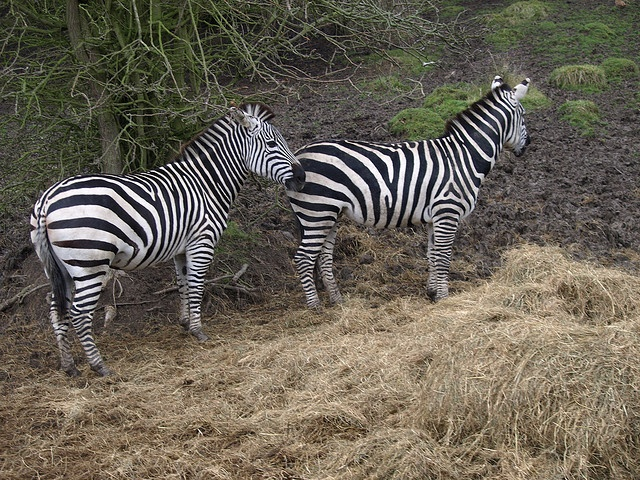zebra: (31, 104, 305, 373), (285, 76, 531, 304)
